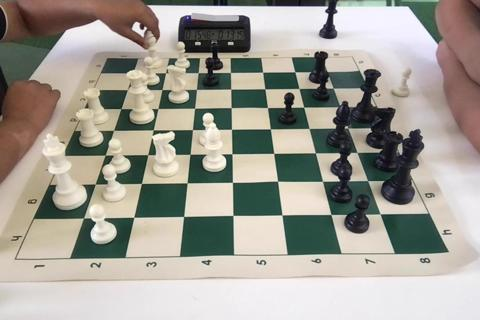xcorner: (163, 67, 175, 80), (297, 84, 309, 97), (228, 84, 241, 96), (229, 124, 241, 137), (364, 176, 377, 188), (91, 178, 103, 191), (325, 68, 337, 80), (293, 68, 305, 80), (261, 68, 273, 80), (228, 68, 240, 80), (196, 68, 208, 80), (130, 67, 142, 79), (331, 85, 343, 97), (263, 84, 275, 96), (194, 84, 206, 96), (159, 84, 171, 96), (124, 84, 136, 96), (338, 103, 350, 115), (302, 103, 314, 115), (265, 103, 277, 115), (229, 103, 241, 115), (192, 103, 204, 115), (155, 103, 167, 115), (117, 103, 129, 115), (345, 124, 357, 136), (307, 124, 319, 136), (268, 124, 280, 136), (190, 125, 202, 137), (150, 125, 162, 137), (110, 125, 122, 137), (354, 148, 366, 160), (313, 149, 325, 161), (271, 149, 283, 161), (229, 149, 241, 161), (187, 149, 199, 161), (144, 149, 156, 161), (101, 150, 113, 162), (320, 177, 332, 189), (275, 177, 287, 189), (230, 177, 242, 189), (184, 178, 196, 190), (138, 178, 150, 190), (377, 209, 389, 221), (328, 210, 340, 222), (280, 210, 292, 222), (230, 211, 242, 223), (181, 211, 193, 223), (130, 212, 142, 224), (80, 213, 92, 225)
